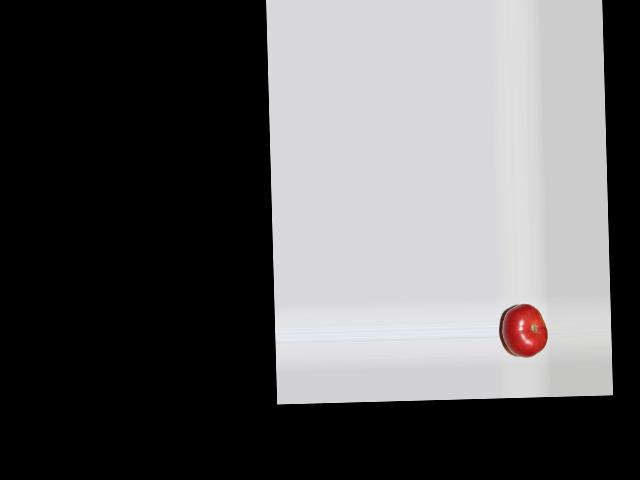tomato: (502, 303, 548, 358)
